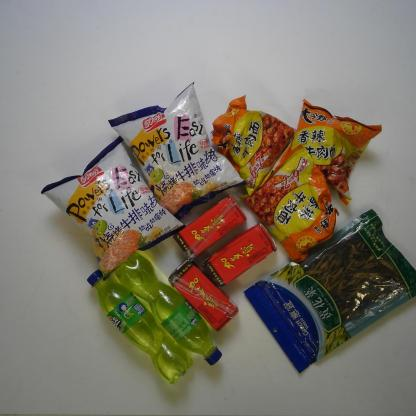Dried Food: (242, 207, 415, 374)
Drink: (86, 268, 194, 387), (114, 251, 222, 367), (167, 258, 239, 332), (172, 195, 247, 262), (202, 223, 277, 289)
Instant Noodles: (238, 144, 340, 263), (296, 98, 382, 207), (209, 94, 297, 198)
Puffed Food: (40, 136, 186, 282), (107, 81, 248, 219)
